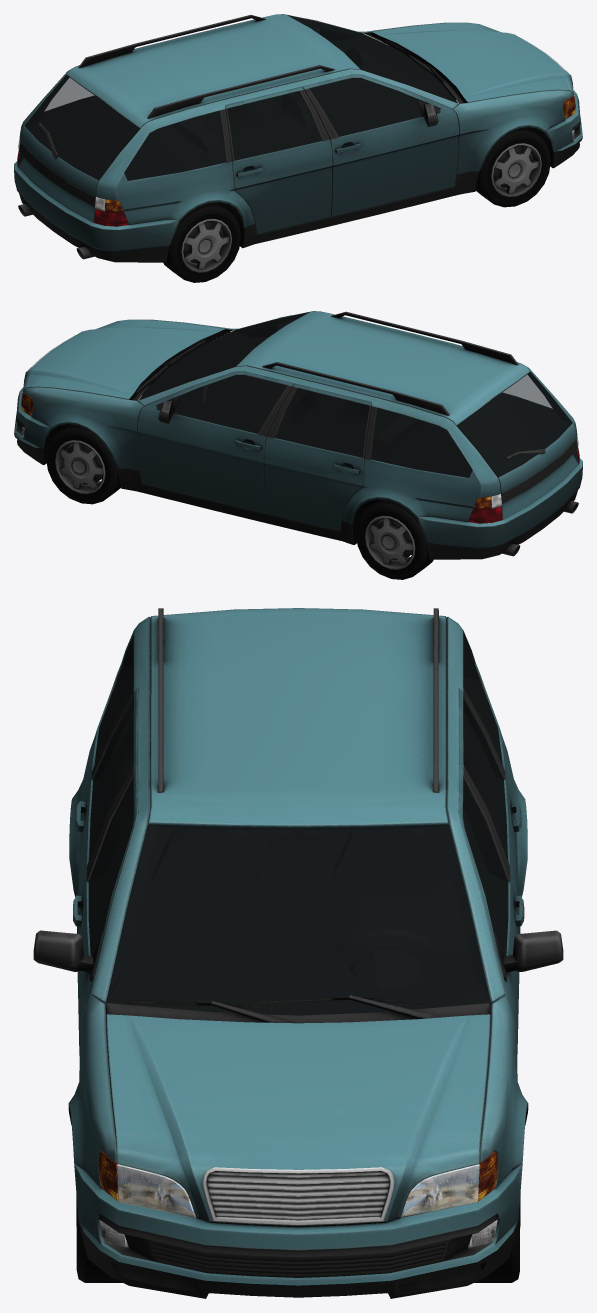
Rendered from wagon_generic.glb.
The picture shows the model from 3 angles, top to bottom: view 1: azimuth 30°, elevation 25°; view 2: azimuth 150°, elevation 25°; view 3: azimuth 270°, elevation 25°; orthographic projection. The views are drawn at different scales.
Parts seen in each view (by area): view 1: body, glass, wheel_rr, wheel_fr, body_Optics_8; view 2: body, glass, wheel_rl, wheel_fl, body_Optics_8; view 3: body, glass, body_Optics_8, wheel_fr, wheel_fl.
Boxes of the visible parts, x1,y1,x2,y2 form: body: (14,14,582,262); glass: (24,15,458,180); wheel_rr: (163,202,240,282); wheel_fr: (475,127,550,207); body_Optics_8: (17,94,575,226); body: (14,311,582,559); glass: (138,312,572,477); wheel_rl: (356,499,433,579); wheel_fl: (46,424,121,504); body_Optics_8: (21,391,579,523); body: (33,608,563,1298); glass: (89,635,507,1015); body_Optics_8: (98,1151,498,1247); wheel_fr: (76,1195,122,1282); wheel_fl: (474,1193,520,1282).
Size of the model in its own units: 4.6 by 1.45 by 2.05.
4 materials, 3 textured.
